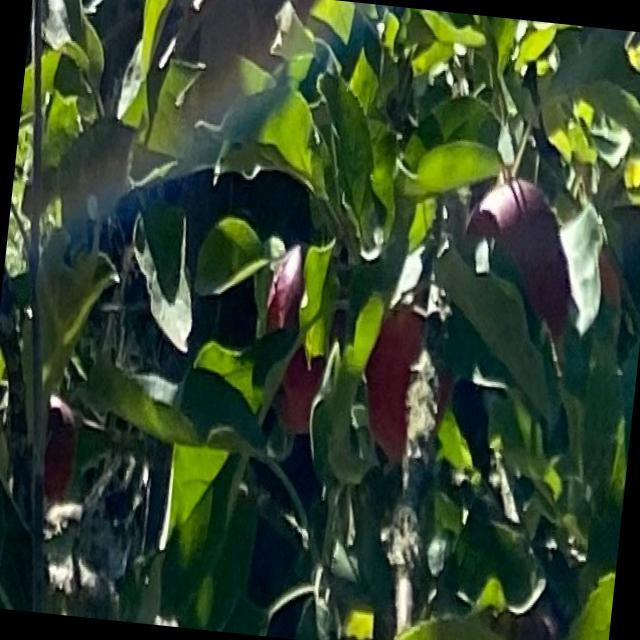Apples: (455, 174, 582, 344), (256, 236, 356, 435), (356, 288, 460, 466), (28, 393, 82, 508)
